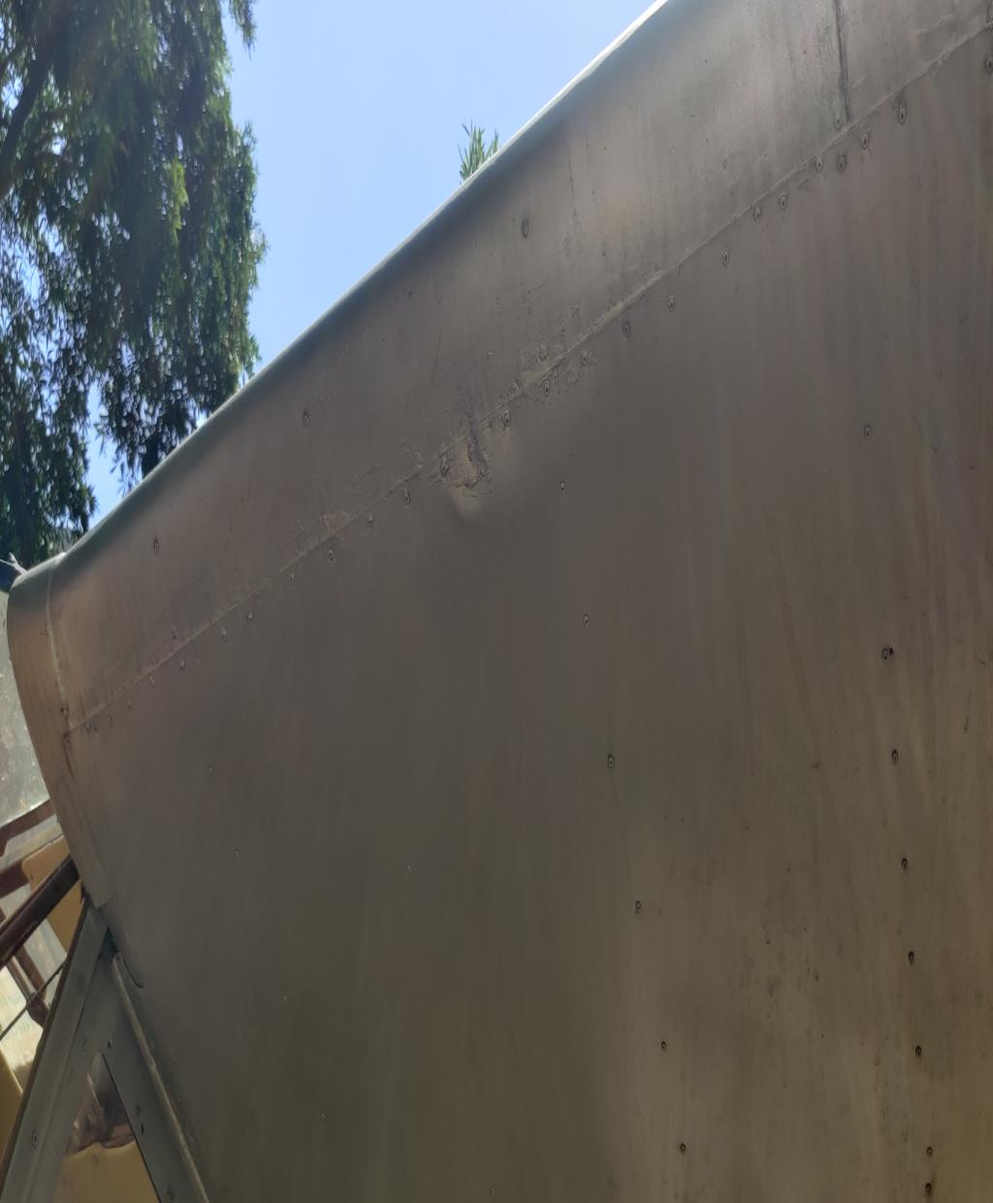dent: (436, 374, 495, 531)
